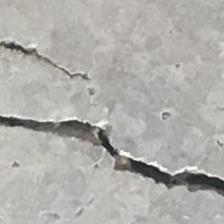Crack: (0, 36, 224, 205)
